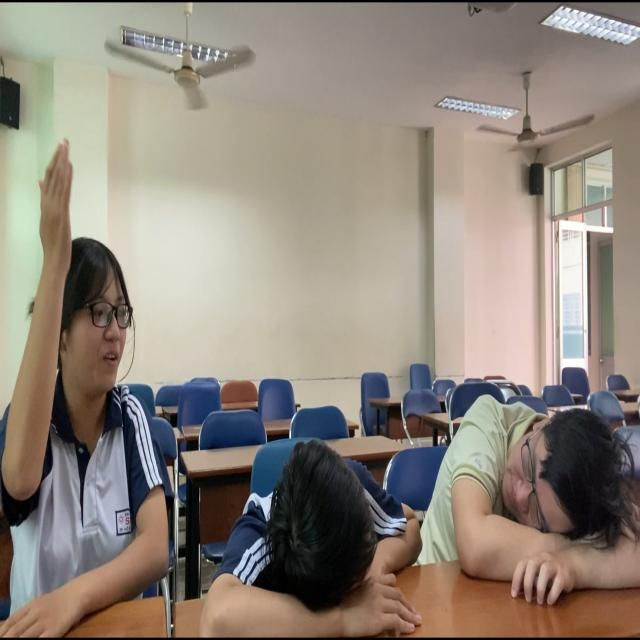raise_hand: (4, 128, 148, 640)
sleep: (427, 392, 640, 623), (189, 439, 424, 640)
